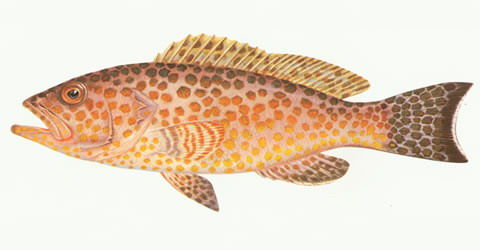fish: (11, 33, 475, 212)
